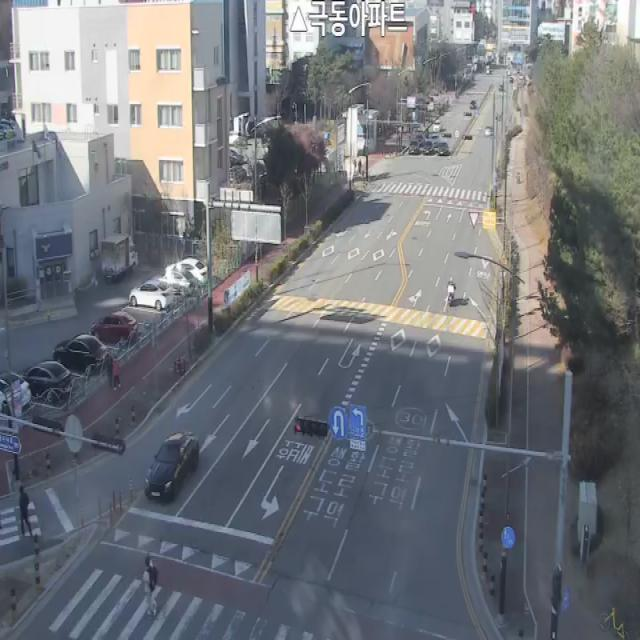Car: (144, 432, 199, 502), (21, 361, 74, 406), (53, 334, 108, 375), (102, 232, 138, 281), (90, 312, 137, 347), (0, 371, 32, 417), (155, 271, 200, 299), (129, 282, 174, 309), (164, 257, 208, 282), (422, 140, 434, 155), (408, 140, 419, 156), (438, 142, 449, 156), (430, 133, 440, 147), (432, 119, 442, 133), (416, 134, 424, 146), (470, 100, 477, 110), (485, 65, 490, 74)
Motorcycle: (441, 272, 465, 312)
